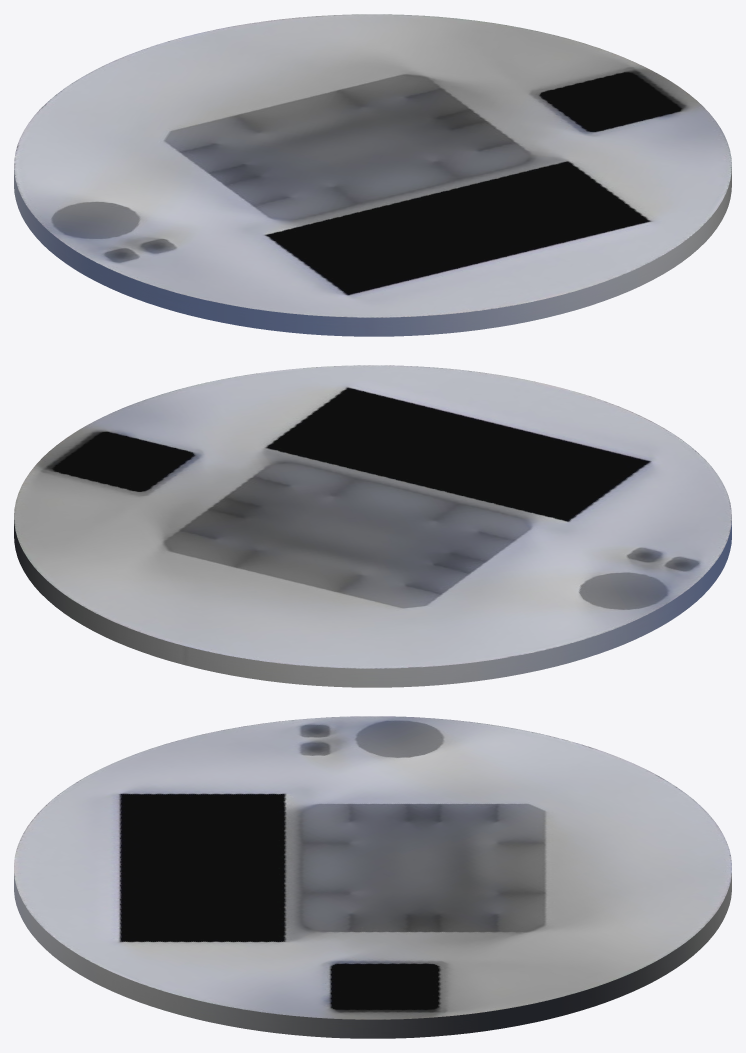
The model's file is Web_GK_Alas_2.glb.
3 views of the same model, one above another, from view 1: azimuth 30°, elevation 25°; view 2: azimuth 150°, elevation 25°; view 3: azimuth 270°, elevation 25° (orthographic).
Parts seen in each view (by area): view 1: Cylinder; view 2: Cylinder; view 3: Cylinder.
Part boxes in pixels (<box>): Cylinder: <box>14,14,731,336</box>; Cylinder: <box>14,365,731,687</box>; Cylinder: <box>14,716,731,1038</box>.
Size of the model in its own units: 6.57 by 0.193 by 6.57.
1 material, 1 textured.
